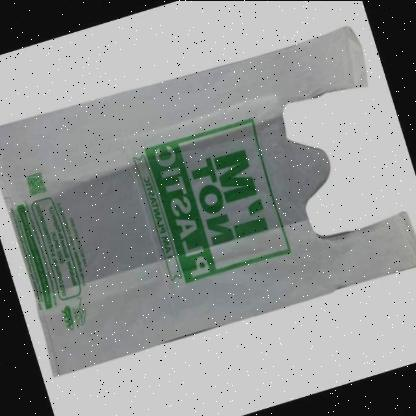Others: (0, 24, 416, 378)
